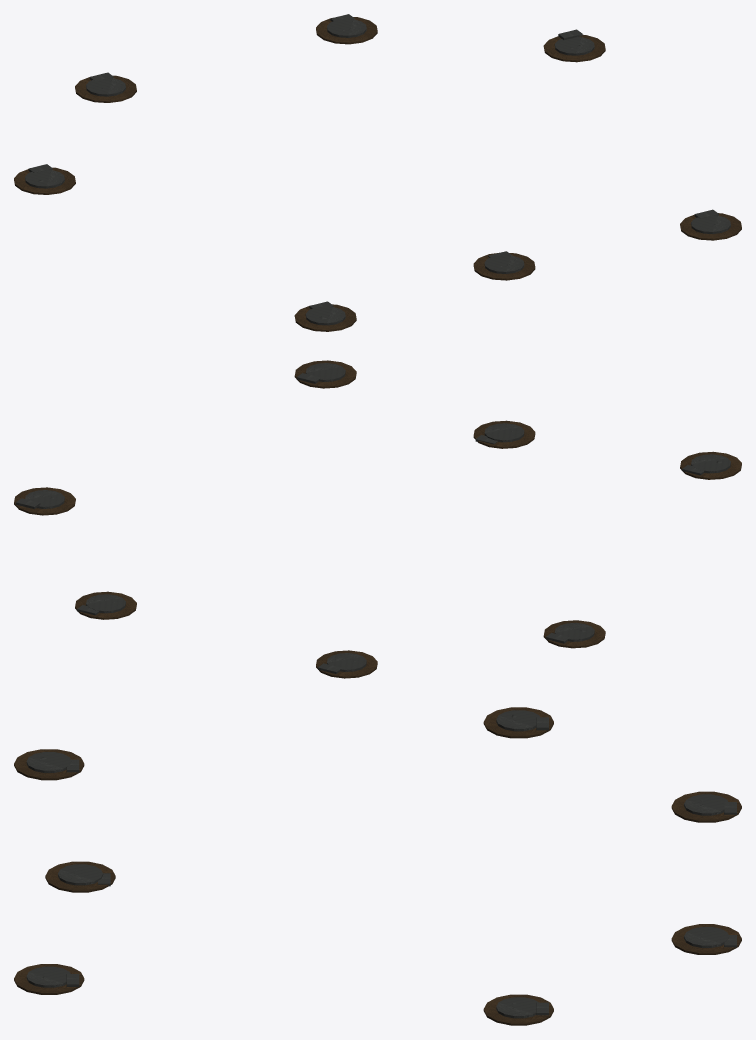
File: seven_lantern_terraces.glb
3 renders of one model, top to bottom at view 1: azimuth 30°, elevation 25°; view 2: azimuth 150°, elevation 25°; view 3: azimuth 270°, elevation 25°, orthographic. The views are drawn at different scales.
Parts seen in each view (by area): view 1: seven_lantern_terraces; view 2: seven_lantern_terraces; view 3: seven_lantern_terraces.
Part boxes in pixels (x1,y1,x2,y2): seven_lantern_terraces: (14,14,741,331); seven_lantern_terraces: (14,360,741,678); seven_lantern_terraces: (14,707,741,1025).
Bounding box in the file's own units: 48.39 × 1.43 × 46.5.
1 material, 1 textured.
